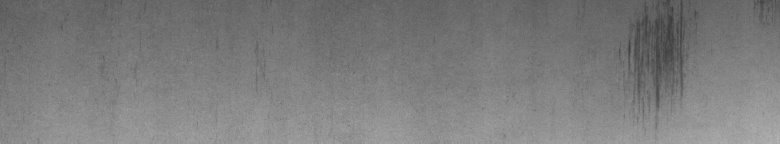ka: (619, 4, 697, 128)
